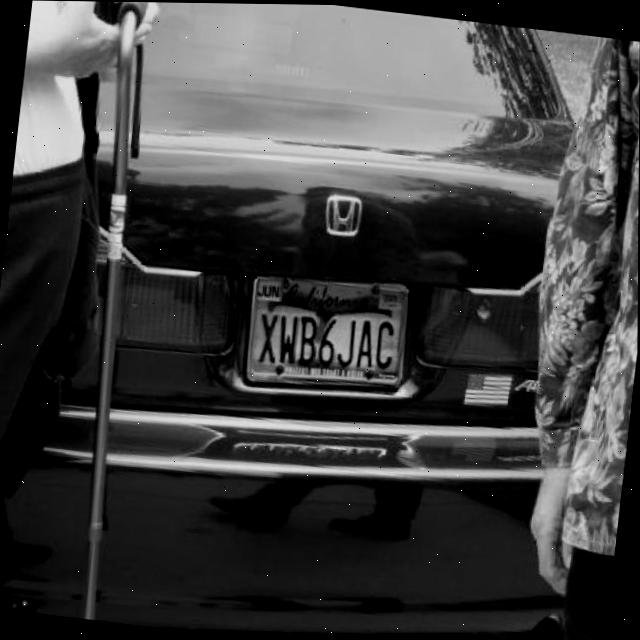LicensePlate: (242, 273, 412, 391)
